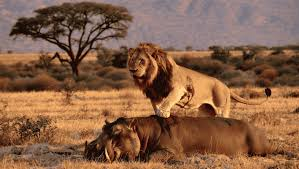lion: (126, 38, 276, 119)
